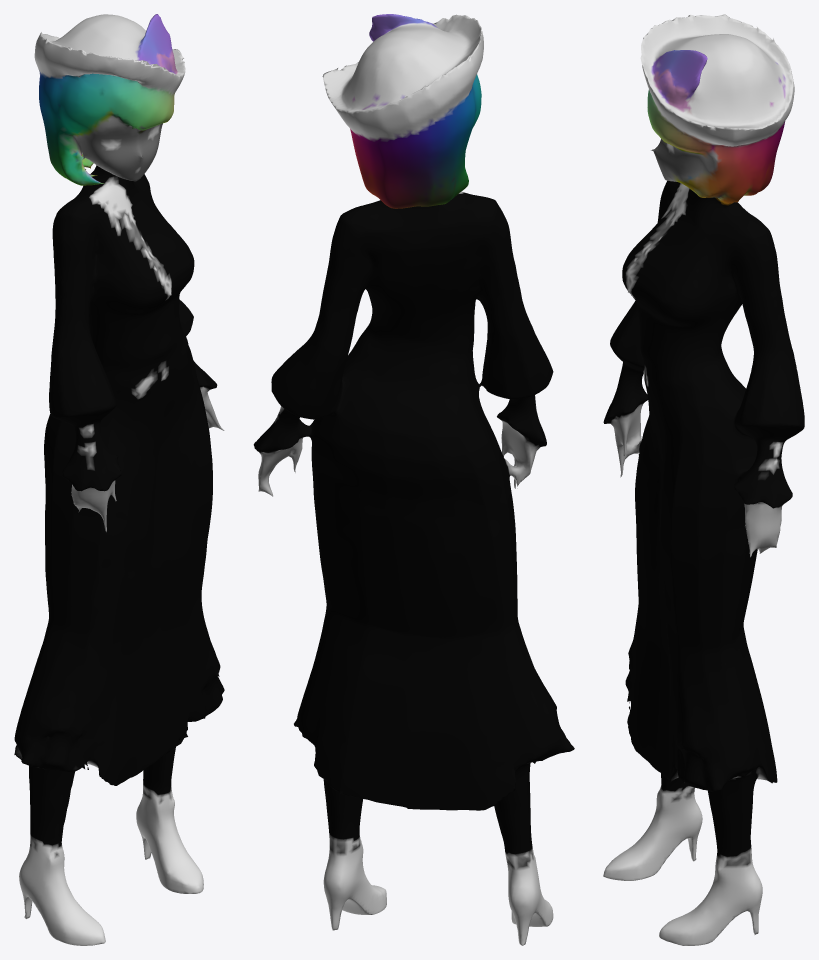
Rendered from SK_Cartoon_29_H.fbx.
3 renders of one model, left to right at view 1: azimuth 30°, elevation 25°; view 2: azimuth 150°, elevation 25°; view 3: azimuth 270°, elevation 25°, orthographic. The views are drawn at different scales.
Visible parts, largest first — view 1: SK_Cartoon_Female_0290; view 2: SK_Cartoon_Female_0290; view 3: SK_Cartoon_Female_0290.
Boxes of the visible parts, box(x1,y1,x2,y2) form: SK_Cartoon_Female_0290: box(14, 14, 224, 945); SK_Cartoon_Female_0290: box(253, 14, 574, 945); SK_Cartoon_Female_0290: box(603, 14, 804, 945).
Size of the model in its own units: 52 by 171 by 35.67.
